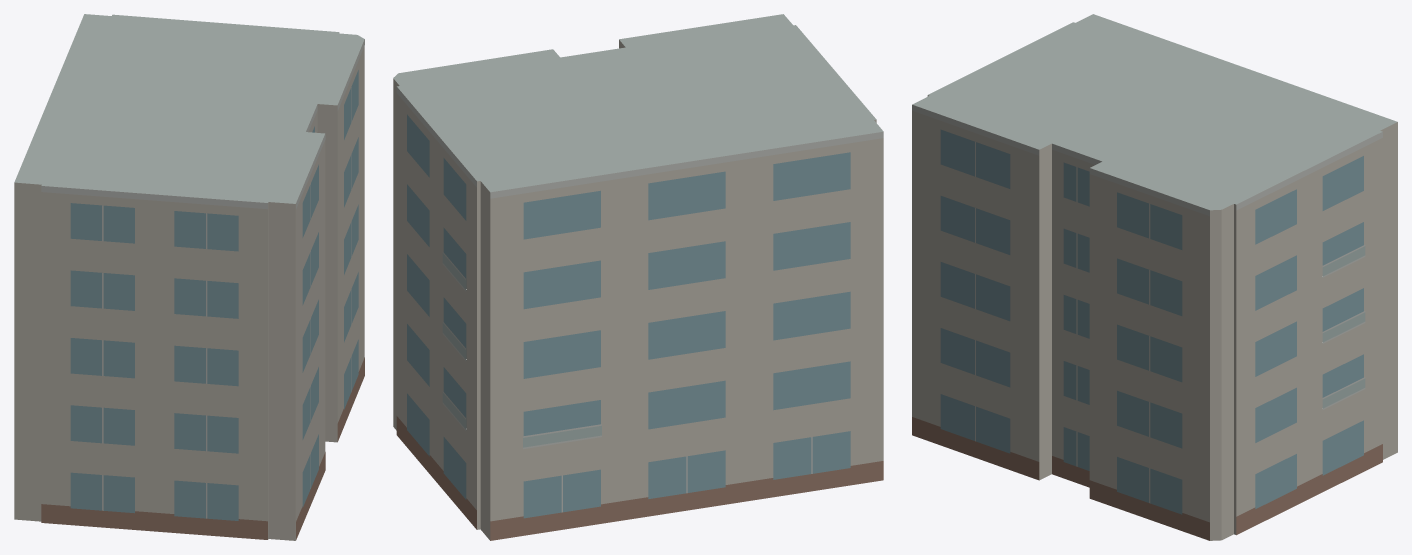
File: survey-upis-32620721.glb
3 renders of one model, left to right at view 1: azimuth 30°, elevation 25°; view 2: azimuth 150°, elevation 25°; view 3: azimuth 270°, elevation 25°, orthographic. The views are drawn at different scales.
Visible parts, largest first — view 1: survey-upis-32620721.tmp; view 2: survey-upis-32620721.tmp; view 3: survey-upis-32620721.tmp.
Boxes of the visible parts, bbox=[...] form: survey-upis-32620721.tmp: bbox=[14, 14, 364, 540]; survey-upis-32620721.tmp: bbox=[393, 14, 883, 540]; survey-upis-32620721.tmp: bbox=[912, 14, 1397, 540].
Bounding box in the file's own units: 16.94 × 13.3 × 17.72.
